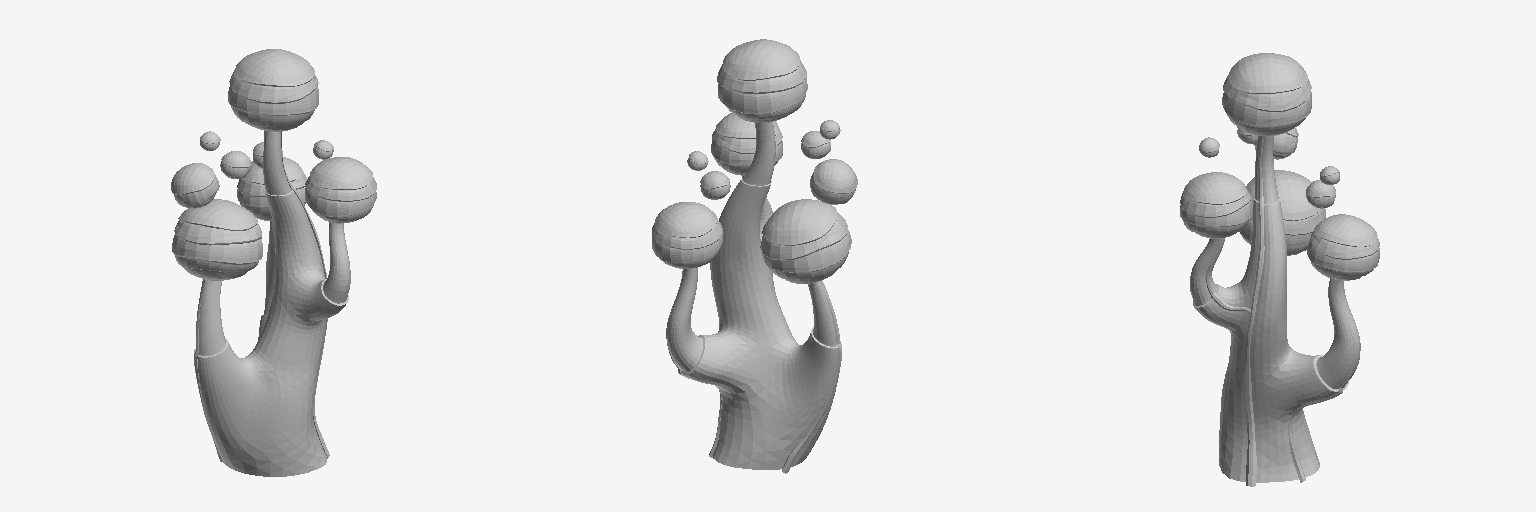
The model's file is tree-02-03.obj.
3 views of the same model, side by side, from view 1: azimuth 30°, elevation 25°; view 2: azimuth 150°, elevation 25°; view 3: azimuth 270°, elevation 25° (orthographic).
Visible parts, largest first — view 1: trunk tree_02 Trees, tree_02 Trees pasted__section_01 bulb_large_06, tree_02 Trees bulb_large_05 pasted__section_03, tree_02 Trees pasted__section_01 bulb_large_05, tree_02 Trees pasted__section_01 bulb_large_07, tree_02 Trees bulb_large_06 pasted__section_02, tree_02 Trees bulb_large_05 pasted__section_02, tree_02 Trees bulb_large_06 pasted__section_03, tree_02 Trees pasted__section_01 bulb_small_06, tree_02 Trees bulb_large_07 pasted__section_03, tree_02 Trees vines, tree_02 Trees bulb_large_07 pasted__section_02 (+5 smaller); view 2: trunk tree_02 Trees, tree_02 Trees pasted__section_01 bulb_large_05, tree_02 Trees pasted__section_01 bulb_large_06, tree_02 Trees pasted__section_01 bulb_large_04, tree_02 Trees bulb_large_06 pasted__section_03, tree_02 Trees bulb_large_05 pasted__section_03, tree_02 Trees bulb_large_05 pasted__section_02, tree_02 Trees bulb_large_06 pasted__section_02, tree_02 Trees pasted__section_01 bulb_small_06, tree_02 Trees vines, tree_02 Trees bulb_large_04 pasted__section_03, tree_02 Trees bulb_large_04 pasted__section_02 (+4 smaller); view 3: trunk tree_02 Trees, tree_02 Trees vines, tree_02 Trees pasted__section_01 bulb_large_06, tree_02 Trees pasted__section_01 bulb_large_05, tree_02 Trees pasted__section_01 bulb_large_07, tree_02 Trees pasted__section_01 bulb_large_04, tree_02 Trees bulb_large_06 pasted__section_03, tree_02 Trees bulb_large_06 pasted__section_02, tree_02 Trees bulb_large_04 pasted__section_03, tree_02 Trees bulb_large_04 pasted__section_02, tree_02 Trees bulb_large_07 pasted__section_02, tree_02 Trees bulb_large_07 pasted__section_03 (+1 smaller).
Boxes of the visible parts, box(x1,y1,x2,y2) form: trunk tree_02 Trees: box(194, 131, 350, 476); tree_02 Trees pasted__section_01 bulb_large_06: box(235, 49, 314, 86); tree_02 Trees bulb_large_05 pasted__section_03: box(172, 233, 262, 264); tree_02 Trees pasted__section_01 bulb_large_05: box(178, 199, 257, 230); tree_02 Trees pasted__section_01 bulb_large_07: box(310, 157, 372, 189); tree_02 Trees bulb_large_06 pasted__section_02: box(229, 70, 318, 103); tree_02 Trees bulb_large_05 pasted__section_02: box(174, 221, 261, 245); tree_02 Trees bulb_large_06 pasted__section_03: box(228, 85, 318, 115); tree_02 Trees pasted__section_01 bulb_small_06: box(171, 163, 214, 195); tree_02 Trees bulb_large_07 pasted__section_03: box(305, 188, 376, 216); tree_02 Trees vines: box(194, 132, 329, 461); tree_02 Trees bulb_large_07 pasted__section_02: box(305, 176, 376, 201); trunk tree_02 Trees: box(667, 122, 840, 469); tree_02 Trees pasted__section_01 bulb_large_05: box(762, 199, 836, 245); tree_02 Trees pasted__section_01 bulb_large_06: box(723, 39, 799, 80); tree_02 Trees pasted__section_01 bulb_large_04: box(655, 202, 717, 237); tree_02 Trees bulb_large_06 pasted__section_03: box(718, 77, 807, 114); tree_02 Trees bulb_large_05 pasted__section_03: box(762, 230, 851, 272); tree_02 Trees bulb_large_05 pasted__section_02: box(760, 212, 847, 260); tree_02 Trees bulb_large_06 pasted__section_02: box(717, 60, 806, 93); tree_02 Trees pasted__section_01 bulb_small_06: box(814, 159, 857, 193); tree_02 Trees vines: box(666, 271, 841, 473); tree_02 Trees bulb_large_04 pasted__section_03: box(652, 234, 722, 262); tree_02 Trees bulb_large_04 pasted__section_02: box(652, 220, 722, 249); trunk tree_02 Trees: box(1190, 136, 1360, 482); tree_02 Trees vines: box(1206, 136, 1355, 486); tree_02 Trees pasted__section_01 bulb_large_06: box(1228, 53, 1307, 93); tree_02 Trees pasted__section_01 bulb_large_05: box(1246, 170, 1320, 220); tree_02 Trees pasted__section_01 bulb_large_07: box(1184, 172, 1245, 204); tree_02 Trees pasted__section_01 bulb_large_04: box(1314, 214, 1377, 246); tree_02 Trees bulb_large_06 pasted__section_03: box(1222, 92, 1311, 126); tree_02 Trees bulb_large_06 pasted__section_02: box(1223, 75, 1311, 111); tree_02 Trees bulb_large_04 pasted__section_03: box(1307, 239, 1379, 272); tree_02 Trees bulb_large_04 pasted__section_02: box(1311, 231, 1379, 259); tree_02 Trees bulb_large_07 pasted__section_02: box(1180, 188, 1251, 217); tree_02 Trees bulb_large_07 pasted__section_03: box(1180, 201, 1252, 226).
Bounding box in the file's own units: 1.8 × 4.2 × 1.86.